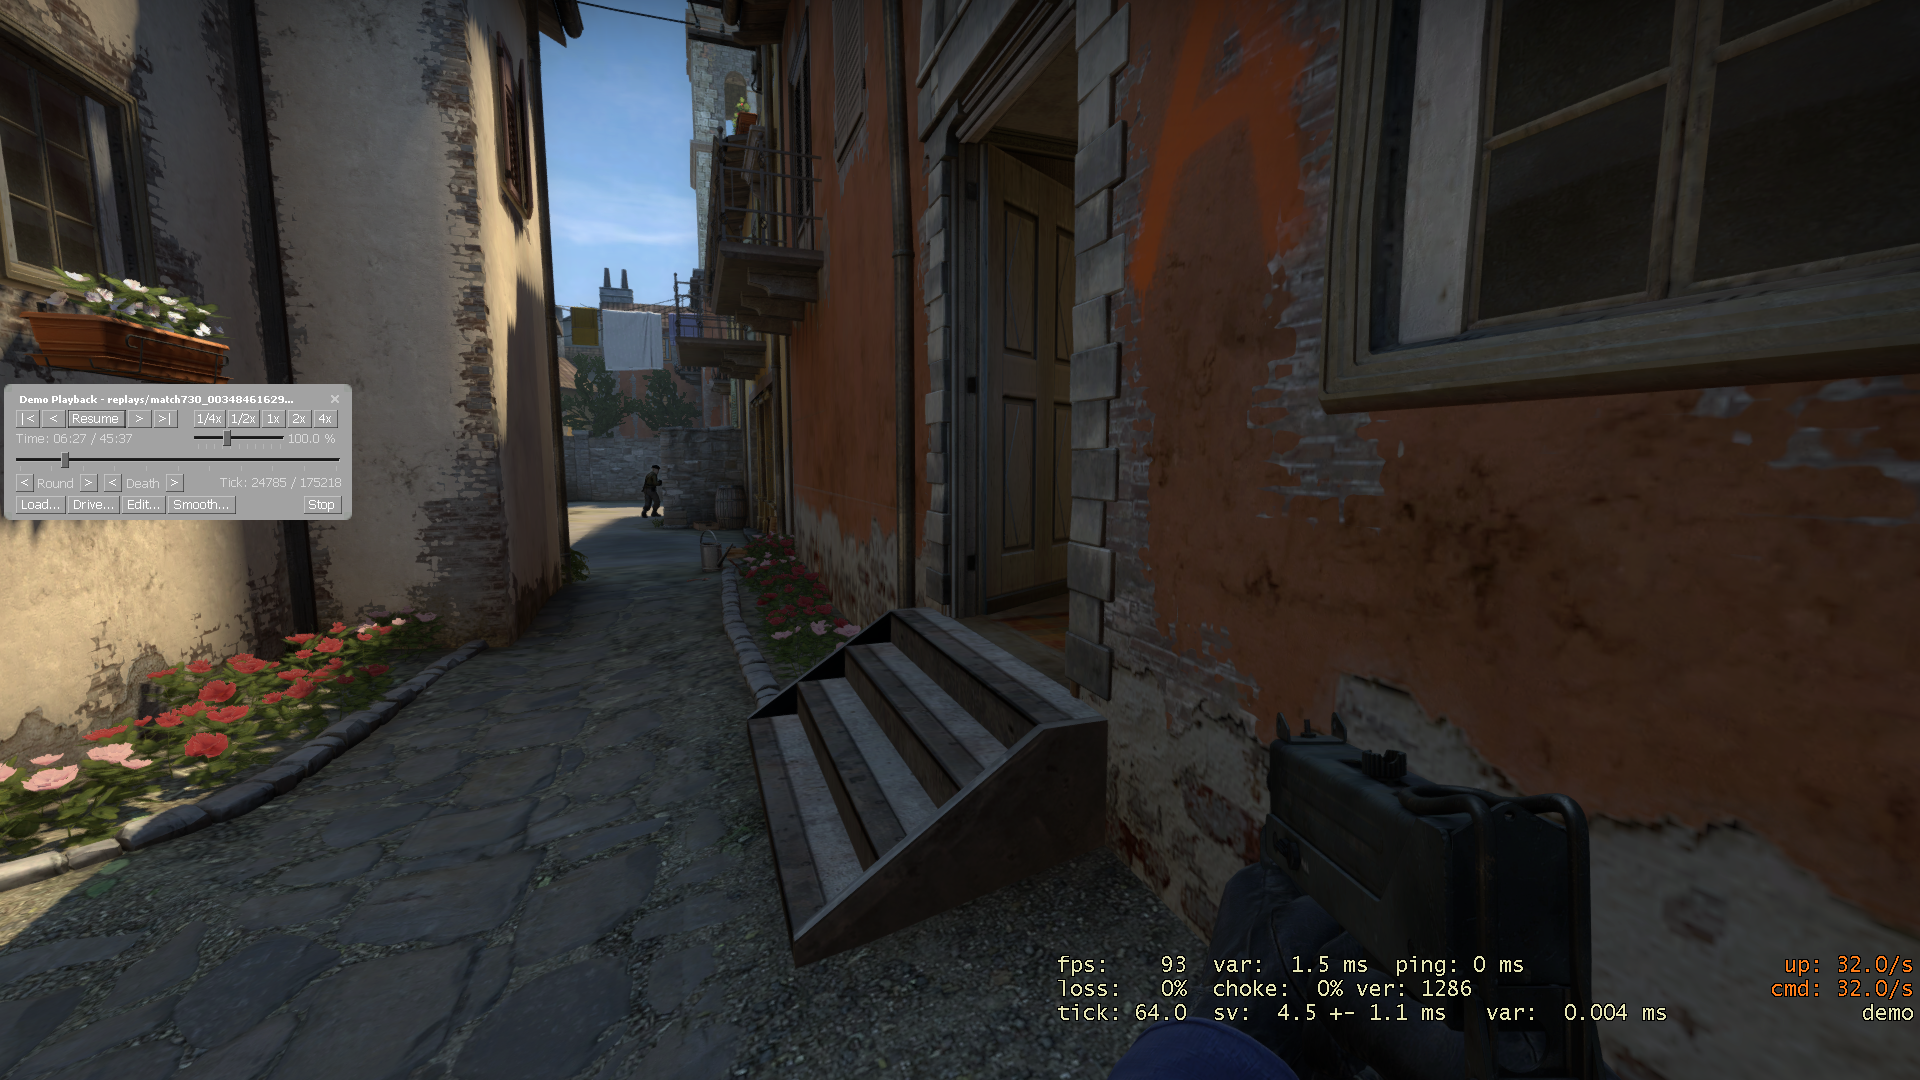t: (641, 465, 663, 518)
